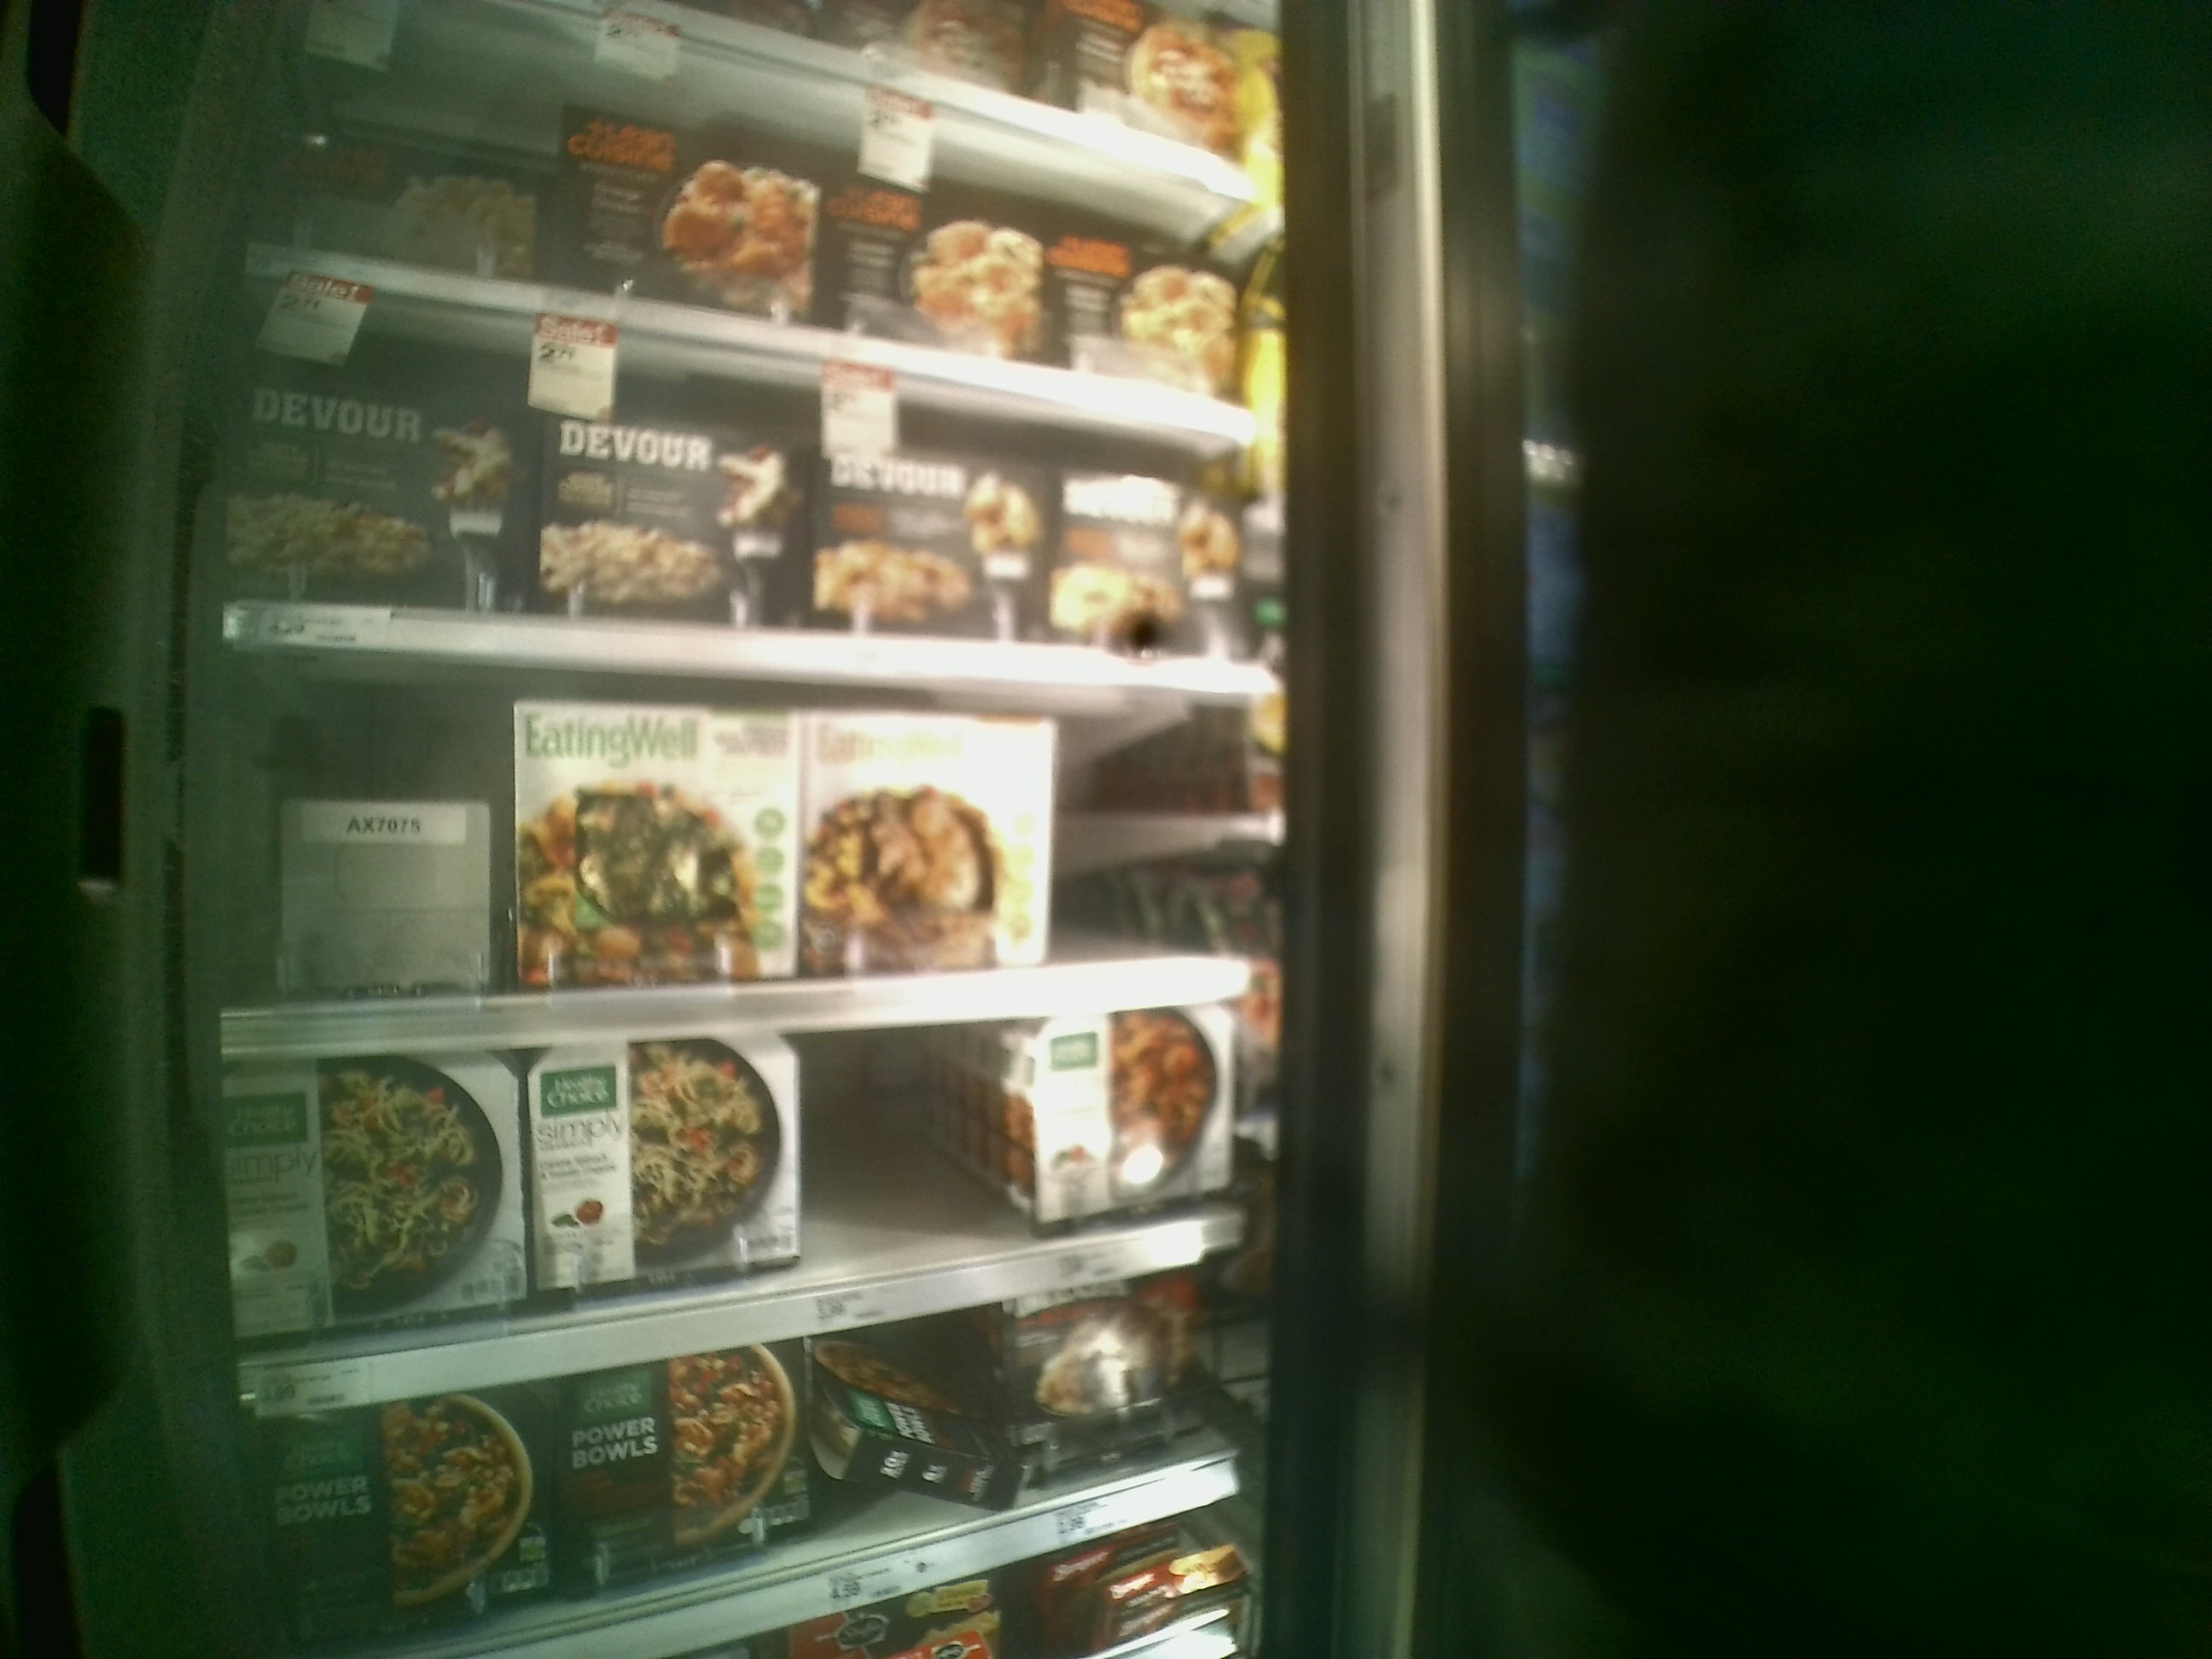shelf: (225, 1004, 1282, 1420), (225, 641, 1303, 1049)
